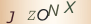J: (6, 11, 16, 24)
N: (47, 4, 60, 17)
O: (37, 8, 50, 21)
X: (63, 1, 77, 15)
Z: (27, 10, 36, 21)
